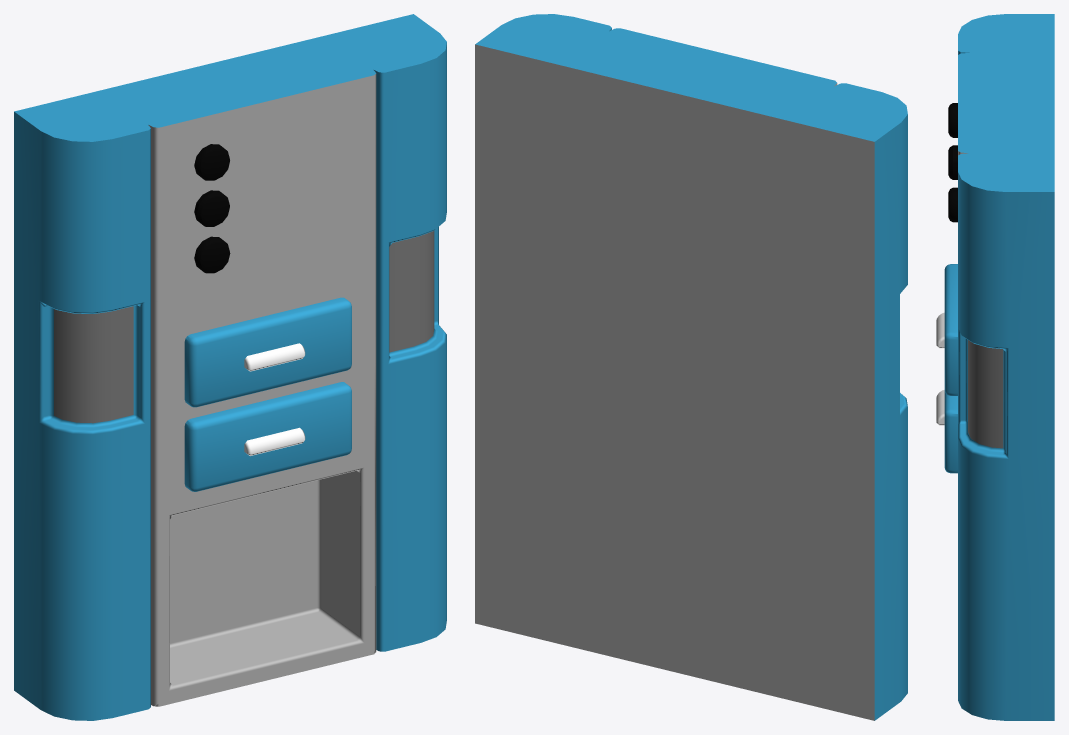
The model's file is Wall_Shelf.fbx.
3 renders of one model, left to right at view 1: azimuth 30°, elevation 25°; view 2: azimuth 150°, elevation 25°; view 3: azimuth 270°, elevation 25°, orthographic. The views are drawn at different scales.
Visible parts, largest first — view 1: Cube.006; view 2: Cube.006; view 3: Cube.006.
Part boxes in pixels (x1,y1,x2,y2): Cube.006: (14,14,446,720); Cube.006: (475,14,907,720); Cube.006: (936,14,1054,720).
Size of the model in its own units: 72.33 by 100 by 20.27.
